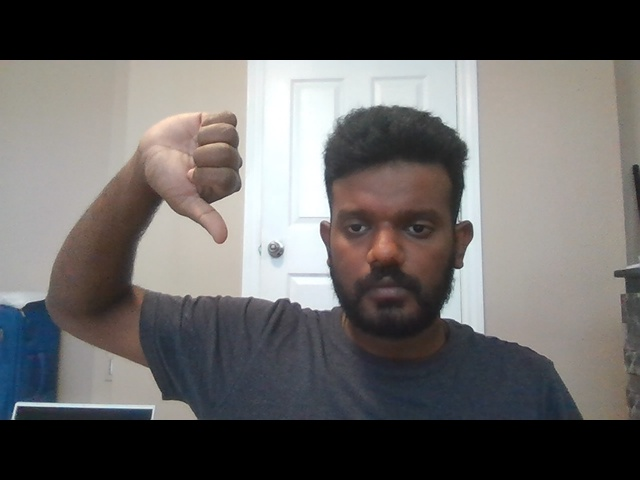no: (134, 107, 251, 249)
